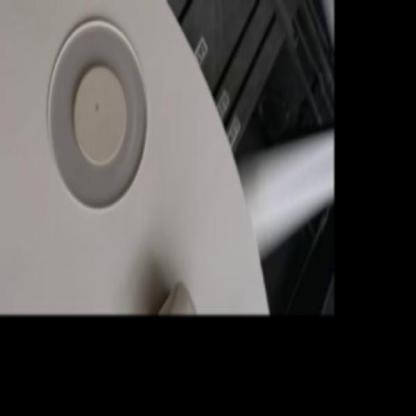light_off: (32, 0, 156, 226)
